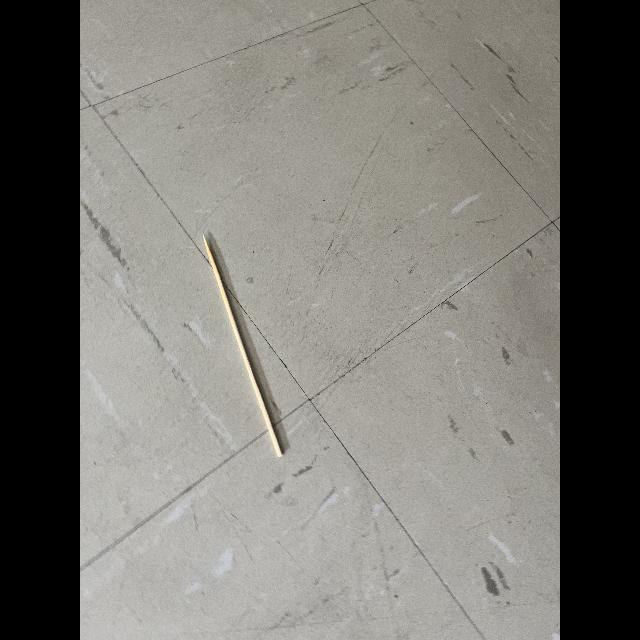stick: (198, 228, 290, 462)
